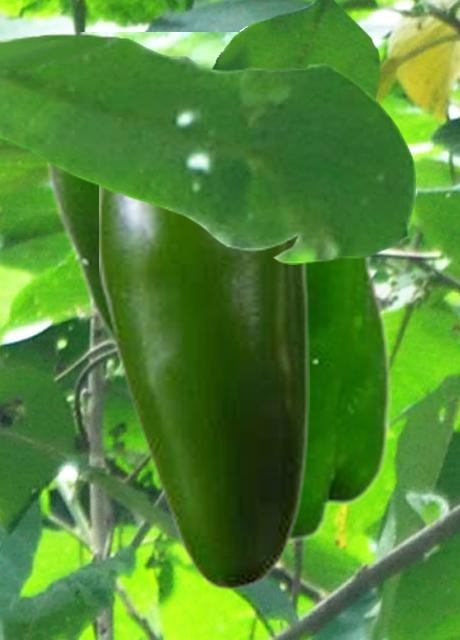green_chili: (42, 32, 390, 542), (99, 187, 308, 590)
